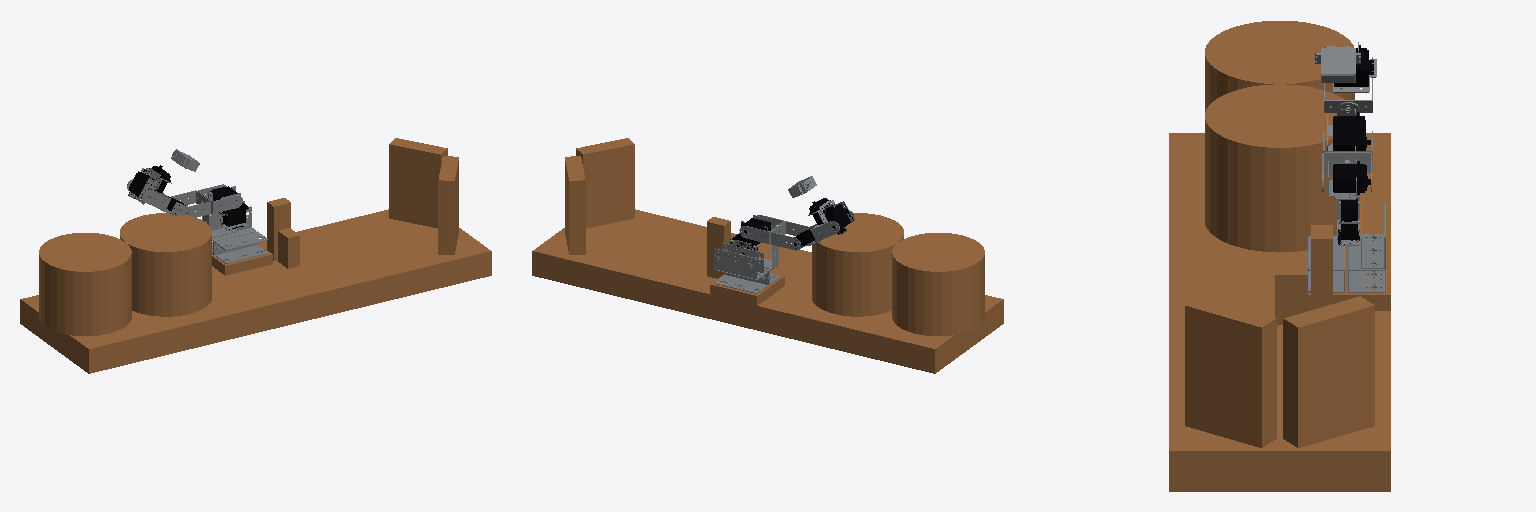
--- What the picture shows (computed from the rendered views, not written in the file) ---
3 views of the same robot in one strip: view 1: azimuth 30°, elevation 25°; view 2: azimuth 150°, elevation 25°; view 3: azimuth 270°, elevation 25° (orthographic).
Robot: strawberry_picking_rpi — 38 links, 37 joints (13 revolute, 24 fixed); root link base_link; default pose: every joint at zero.
Visible links, largest first — view 1: kabaong, basket_diseased, basket_healthy, mirror_right, mirror_left, 2_u_type_robot_waist_bracket, depth_camera_mount, mirror_camera_mount, base_link, 3_long_u_type_servo_bracket; view 2: kabaong, basket_diseased, basket_healthy, mirror_left, mirror_right, 3_u_type_robot_waist_bracket, depth_camera_mount, base_link, 1_u_type_robot_waist_bracket, 3_long_u_type_servo_bracket; view 3: kabaong, basket_healthy, mirror_left, mirror_right, basket_diseased, depth_camera_mount, mirror_camera_mount, gripper_servo, 1_u_type_robot_waist_bracket, 3_servo, base_link, 2_servo (+4 smaller).
Link boxes in pixels (x1,y1,x2,y2): kabaong: [20, 209, 491, 373]; basket_diseased: [39, 233, 131, 335]; basket_healthy: [120, 213, 211, 316]; mirror_right: [389, 138, 447, 227]; mirror_left: [438, 156, 458, 254]; 2_u_type_robot_waist_bracket: [215, 231, 267, 263]; depth_camera_mount: [267, 198, 290, 260]; mirror_camera_mount: [278, 228, 299, 268]; base_link: [212, 242, 272, 275]; 3_long_u_type_servo_bracket: [171, 190, 210, 217]; kabaong: [532, 209, 1003, 373]; basket_diseased: [892, 233, 984, 335]; basket_healthy: [812, 213, 903, 316]; mirror_left: [576, 138, 634, 227]; mirror_right: [565, 156, 585, 254]; 3_u_type_robot_waist_bracket: [714, 243, 763, 278]; depth_camera_mount: [707, 217, 730, 278]; base_link: [710, 272, 784, 305]; 1_u_type_robot_waist_bracket: [715, 269, 767, 293]; 3_long_u_type_servo_bracket: [771, 221, 807, 250]; kabaong: [1169, 133, 1390, 491]; basket_healthy: [1205, 84, 1349, 252]; mirror_left: [1185, 296, 1276, 447]; mirror_right: [1283, 296, 1374, 447]; basket_diseased: [1205, 21, 1354, 111]; depth_camera_mount: [1311, 225, 1332, 309]; mirror_camera_mount: [1275, 266, 1307, 324]; gripper_servo: [1315, 46, 1360, 82]; 1_u_type_robot_waist_bracket: [1348, 236, 1384, 292]; 3_servo: [1333, 112, 1370, 150]; base_link: [1302, 257, 1390, 310]; 2_servo: [1333, 161, 1370, 194].
Bounding box of the posed robot: 0.87 × 0.25 × 0.2986 m (x, y, z).
Meshes: 12 distinct files referenced, 19 mesh visuals loaded (6 binary STL); not drawn: 11 (reference not matched to a file when rendering).

robot.urdf — strawberry_picking_rpi:
<?xml version="1.0" ?>
<!-- =================================================================================== -->
<!-- |    This document was autogenerated by xacro from strawberry_picking_rpi.urdf.xacro | -->
<!-- |    EDITING THIS FILE BY HAND IS NOT RECOMMENDED                                 | -->
<!-- =================================================================================== -->
<robot name="strawberry_picking_rpi">
  <material name="wood">
    <color rgba="0.6431372549019608 0.4549019607843137 0.28627450980392155 1.0"/>
    <texture filename=""/>
  </material>
  <material name="aluminum">
    <color rgba="0.5333333333333333 0.5450980392156862 0.5529411764705883 1.0"/>
  </material>
  <material name="black_plastic">
    <color rgba="0.058823529411764705 0.058823529411764705 0.07450980392156863 1.0"/>
  </material>
  <!-- the base link is the plank where the robot sits on -->
  <link name="base_link">
    <visual name="base_link">
      <origin rpy="0.0 0.0 0.0" xyz="0.0 0.0 0.0"/>
      <geometry>
        <box size="0.1                             0.1                             0.02"/>
      </geometry>
      <material name="wood"/>
    </visual>
    <collision>
      <origin rpy="0.0 0.0 0.0" xyz="0.0 0.0 0.0"/>
      <geometry>
        <box size="0.1                             0.1                             0.02"/>
      </geometry>
    </collision>
  </link>
  <link name="1_u_type_robot_waist_bracket">
    <inertial>
      <origin rpy="         0.0          0.0         0.0" xyz="         0.0         0.0225         0.014"/>
      <mass value="0.0"/>
      <inertia ixx="0.0" ixy="0.0" ixz="0.0" iyy="0.0" iyz="0.0" izz="0.0"/>
    </inertial>
    <visual>
      <origin rpy="         0.0          0.0         0.0" xyz="         0.0         0.0225         0.014"/>
      <geometry>
        <mesh filename="package://strawberry_picking_rpi_description/meshes/u_type_robot_waist_bracket.stl" scale="0.001 0.001 0.001"/>
      </geometry>
      <material name="aluminum"/>
    </visual>
    <collision>
      <origin rpy="         0.0          0.0         0.0" xyz="         0.0         0.0225         0.014"/>
      <geometry>
        <box size="0.09                                 0.045                                 0.028"/>
      </geometry>
    </collision>
  </link>
  <joint name="1_u_type_robot_waist_bracket_link_to_base_link" type="fixed">
    <origin rpy="         0.0          0.0         0.0" xyz="         0.0         0.0         0.01"/>
    <parent link="base_link"/>
    <child link="1_u_type_robot_waist_bracket"/>
  </joint>
  <link name="2_u_type_robot_waist_bracket">
    <inertial>
      <origin rpy="         0.0          0.0         0.0" xyz="         0.0         0.0225         0.014"/>
      <mass value="0.0"/>
      <inertia ixx="0.0" ixy="0.0" ixz="0.0" iyy="0.0" iyz="0.0" izz="0.0"/>
    </inertial>
    <visual>
      <origin rpy="         0.0          0.0         0.0" xyz="         0.0         0.0225         0.014"/>
      <geometry>
        <mesh filename="package://strawberry_picking_rpi_description/meshes/u_type_robot_waist_bracket.stl" scale="0.001 0.001 0.001"/>
      </geometry>
      <material name="aluminum"/>
    </visual>
    <collision>
      <origin rpy="         0.0          0.0         0.0" xyz="         0.0         0.0225         0.014"/>
      <geometry>
        <box size="0.09                                 0.045                                 0.028"/>
      </geometry>
    </collision>
  </link>
  <joint name="2_u_type_robot_waist_bracket_link_to_1_u_type_robot_waist_bracket" type="fixed">
    <origin rpy="         0.0          0.0         3.141592653589793" xyz="         0.0         0.0         0.0"/>
    <parent link="1_u_type_robot_waist_bracket"/>
    <child link="2_u_type_robot_waist_bracket"/>
  </joint>
  <link name="3_u_type_robot_waist_bracket">
    <inertial>
      <origin rpy="         1.5707963267948966         0.0         0.0" xyz="         0.0         0.0         0.0225"/>
      <mass value="0.0"/>
      <inertia ixx="0.0" ixy="0.0" ixz="0.0" iyy="0.0" iyz="0.0" izz="0.0"/>
    </inertial>
    <visual>
      <origin rpy="         1.5707963267948966         0.0         0.0" xyz="         0.0         0.0         0.0225"/>
      <geometry>
        <mesh filename="package://strawberry_picking_rpi_description/meshes/u_type_robot_waist_bracket.stl" scale="0.001 0.001 0.001"/>
      </geometry>
      <material name="aluminum"/>
    </visual>
    <collision>
      <origin rpy="         1.5707963267948966         0.0         0.0" xyz="         0.0         0.0         0.0225"/>
      <geometry>
        <box size="0.09                                 0.045                                 0.028"/>
      </geometry>
    </collision>
  </link>
  <joint name="3_u_type_robot_waist_bracket_link_to_1_u_type_robot_waist_bracket" type="fixed">
    <origin rpy="         0.0          0.0         0.0" xyz="         0.0         0.03025         0.028"/>
    <parent link="1_u_type_robot_waist_bracket"/>
    <child link="3_u_type_robot_waist_bracket"/>
  </joint>
  <link name="1_multi_functional_servo_bracket_with_servo">
    <inertial>
      <origin rpy="         0.0         0.0         3.141592653589793" xyz="         0.0          0.013300000000000001          0.01"/>
      <mass value="0.0"/>
      <inertia ixx="0.0" ixy="0.0" ixz="0.0" iyy="0.0" iyz="0.0" izz="0.0"/>
    </inertial>
    <visual name="">
      <origin rpy="         0.0         0.0         3.141592653589793" xyz="         0.0          0.013300000000000001          0.01"/>
      <geometry>
        <mesh filename="package://strawberry_picking_rpi_description/meshes/multi_functional_servo_bracket.stl" scale="0.001 0.001 0.001"/>
      </geometry>
      <material name="aluminum"/>
    </visual>
    <collision>
      <origin rpy="         0.0         0.0         3.141592653589793" xyz="         0.0          0.013300000000000001          0.01"/>
      <geometry>
        <box size="0.057                                 0.025                                 0.05"/>
      </geometry>
    </collision>
  </link>
  <link name="1_servo">
    <visual>
      <origin rpy="         0.0         0.0         3.141592653589793" xyz="         0.0          0.013300000000000001          0.01"/>
      <geometry>
        <mesh filename="package://strawberry_picking_rpi_description/meshes/mg996r_servo.stl" scale="0.001 0.001 0.001"/>
      </geometry>
      <material name="black_plastic"/>
    </visual>
  </link>
  <joint name="1_servo_to_1_multi_functional_servo_bracket_with_servo" type="fixed">
    <parent link="1_multi_functional_servo_bracket_with_servo"/>
    <child link="1_servo"/>
  </joint>
  <joint name="1_multi_functional_servo_bracket_with_servo_to_3_u_type_robot_waist_bracket" type="fixed">
    <origin rpy="             0.0              0.0             3.141592653589793" xyz="             0.0             -0.014             0.03025"/>
    <parent link="3_u_type_robot_waist_bracket"/>
    <child link="1_multi_functional_servo_bracket_with_servo"/>
  </joint>
  <link name="1_long_u_type_servo_bracket">
    <inertial>
      <origin rpy="         0.0         1.5707963267948966         0.0" xyz="         -0.052500000000000005         -0.01         -0.025500000000000002"/>
      <mass value="0.0"/>
      <inertia ixx="0.0" ixy="0.0" ixz="0.0" iyy="0.0" iyz="0.0" izz="0.0"/>
    </inertial>
    <visual name="">
      <origin rpy="         0.0         1.5707963267948966         0.0" xyz="         -0.052500000000000005         -0.01         -0.025500000000000002"/>
      <geometry>
        <mesh filename="package://strawberry_picking_rpi_description/meshes/long_u_type_servo_bracket.stl" scale="0.001 0.001 0.001"/>
      </geometry>
      <material name="aluminum"/>
    </visual>
    <collision>
      <origin rpy="         0.0         1.5707963267948966         0.0" xyz="         -0.052500000000000005         -0.01         -0.025500000000000002"/>
      <geometry>
        <mesh filename="package://strawberry_picking_rpi_description/meshes/long_u_type_servo_bracket.stl" scale="0.001 0.001 0.001"/>
      </geometry>
    </collision>
  </link>
  <joint name="DOF_1" type="revolute">
    <origin rpy="             0.0              0.0             -3.141592653589793" xyz="             0.0095             0.014             0.036000000000000004"/>
    <limit effort="1000" lower="0" upper="3.141592653589793" velocity="6.98133333333"/>
    <axis xyz="0.0 0.0 1"/>
    <parent link="1_multi_functional_servo_bracket_with_servo"/>
    <child link="1_long_u_type_servo_bracket"/>
  </joint>
  <link name="2_multi_functional_servo_bracket_with_servo">
    <inertial>
      <origin rpy="         0.0         0.0         0.0" xyz="         0.0         -0.014          0.009"/>
      <mass value="0.0"/>
      <inertia ixx="0.0" ixy="0.0" ixz="0.0" iyy="0.0" iyz="0.0" izz="0.0"/>
    </inertial>
    <visual name="">
      <origin rpy="         0.0         0.0         0.0" xyz="         0.0         -0.014          0.009"/>
      <geometry>
        <mesh filename="package://strawberry_picking_rpi_description/meshes/multi_functional_servo_bracket.stl" scale="0.001 0.001 0.001"/>
      </geometry>
      <material name="aluminum"/>
    </visual>
    <collision>
      <origin rpy="         0.0         0.0         0.0" xyz="         0.0         -0.014          0.009"/>
      <geometry>
        <box size="0.057                                 0.025                                 0.05"/>
      </geometry>
    </collision>
  </link>
  <link name="2_servo">
    <visual>
      <origin rpy="         0.0         0.0         0.0" xyz="         0.0         -0.014          0.009"/>
      <geometry>
        <mesh filename="package://strawberry_picking_rpi_description/meshes/mg996r_servo_reversed.stl" scale="0.001 0.001 0.001"/>
      </geometry>
      <material name="black_plastic"/>
    </visual>
  </link>
  <joint name="2_servo_to_2_multi_functional_servo_bracket_with_servo" type="fixed">
    <parent link="2_multi_functional_servo_bracket_with_servo"/>
    <child link="2_servo"/>
  </joint>
  <joint name="2_multi_functional_servo_bracket_with_servo_to_1_long_u_type_servo_bracket" type="fixed">
    <origin rpy="             1.5707963267948966             3.141592653589793             3.141592653589793" xyz="             -0.012             -0.011             0.003"/>
    <parent link="1_long_u_type_servo_bracket"/>
    <child link="2_multi_functional_servo_bracket_with_servo"/>
  </joint>
  <link name="2_long_u_type_servo_bracket">
    <inertial>
      <origin rpy="         0.0         1.5707963267948966         0.0" xyz="         -0.052500000000000005         -0.01         -0.0265"/>
      <mass value="0.0"/>
      <inertia ixx="0.0" ixy="0.0" ixz="0.0" iyy="0.0" iyz="0.0" izz="0.0"/>
    </inertial>
    <visual name="">
      <origin rpy="         0.0         1.5707963267948966         0.0" xyz="         -0.052500000000000005         -0.01         -0.0265"/>
      <geometry>
        <mesh filename="package://strawberry_picking_rpi_description/meshes/long_u_type_servo_bracket.stl" scale="0.001 0.001 0.001"/>
      </geometry>
      <material name="aluminum"/>
    </visual>
    <collision>
      <origin rpy="         0.0         1.5707963267948966         0.0" xyz="         -0.052500000000000005         -0.01         -0.0265"/>
      <geometry>
        <mesh filename="package://strawberry_picking_rpi_description/meshes/long_u_type_servo_bracket.stl" scale="0.001 0.001 0.001"/>
      </geometry>
    </collision>
  </link>
  <joint name="DOF_2" type="revolute">
    <origin rpy="             0.0              0.0             0.0" xyz="             0.0095             -0.014             0.036000000000000004"/>
    <limit effort="1000" lower="0" upper="3.141592653589793" velocity="6.98133333333"/>
    <axis xyz="0.0 0.0 1"/>
    <parent link="2_multi_functional_servo_bracket_with_servo"/>
    <child link="2_long_u_type_servo_bracket"/>
  </joint>
  <link name="3_long_u_type_servo_bracket">
    <inertial>
      <origin rpy="         0.0         -1.5707963267948966         0.0" xyz="         -0.053000000000000005         -0.0105         -0.025500000000000002"/>
      <mass value="0.0"/>
      <inertia ixx="0.0" ixy="0.0" ixz="0.0" iyy="0.0" iyz="0.0" izz="0.0"/>
    </inertial>
    <visual name="">
      <origin rpy="         0.0         -1.5707963267948966         0.0" xyz="         -0.053000000000000005         -0.0105         -0.025500000000000002"/>
      <geometry>
        <mesh filename="package://strawberry_picking_rpi_description/meshes/long_u_type_servo_bracket.stl" scale="0.001 0.001 0.001"/>
      </geometry>
      <material name="aluminum"/>
    </visual>
    <collision>
      <origin rpy="         0.0         -1.5707963267948966         0.0" xyz="         -0.053000000000000005         -0.0105         -0.025500000000000002"/>
      <geometry>
        <mesh filename="package://strawberry_picking_rpi_description/meshes/long_u_type_servo_bracket.stl" scale="0.001 0.001 0.001"/>
      </geometry>
    </collision>
  </link>
  <joint name="3_long_u_type_servo_bracket_to_2_long_u_type_servo_bracket" type="fixed">
    <origin rpy="             0.0              0.0             0.0" xyz="             0.0             0.0             0.0"/>
    <parent link="2_long_u_type_servo_bracket"/>
    <child link="3_long_u_type_servo_bracket"/>
  </joint>
  <link name="3_multi_functional_servo_bracket_with_servo">
    <inertial>
      <origin rpy="         0.0         0.0         3.141592653589793" xyz="         0.0095         0.0         -0.028"/>
      <mass value="0.0"/>
      <inertia ixx="0.0" ixy="0.0" ixz="0.0" iyy="0.0" iyz="0.0" izz="0.0"/>
    </inertial>
    <visual name="">
      <origin rpy="         0.0         0.0         3.141592653589793" xyz="         0.0095         0.0         -0.028"/>
      <geometry>
        <mesh filename="package://strawberry_picking_rpi_description/meshes/multi_functional_servo_bracket.stl" scale="0.001 0.001 0.001"/>
      </geometry>
      <material name="aluminum"/>
    </visual>
    <collision>
      <origin rpy="         0.0         0.0         3.141592653589793" xyz="         0.0095         0.0         -0.028"/>
      <geometry>
        <box size="0.057                                 0.025                                 0.05"/>
      </geometry>
    </collision>
  </link>
  <link name="3_servo">
    <visual>
      <origin rpy="         0.0         0.0         3.141592653589793" xyz="         0.0095         0.0         -0.028"/>
      <geometry>
        <mesh filename="package://strawberry_picking_rpi_description/meshes/mg996r_servo_reversed.stl" scale="0.001 0.001 0.001"/>
      </geometry>
      <material name="black_plastic"/>
    </visual>
  </link>
  <joint name="3_servo_to_3_multi_functional_servo_bracket_with_servo" type="fixed">
    <parent link="3_multi_functional_servo_bracket_with_servo"/>
    <child link="3_servo"/>
  </joint>
  <joint name="DOF_3" type="revolute">
    <origin rpy="             0.0             0.0             -2.5707963267948966" xyz="             -0.1055             0.0             0.0"/>
    <limit effort="1000" lower="0" upper="3.141592653589793" velocity="6.98133333333"/>
    <axis xyz="0.0 0.0 -1"/>
    <parent link="3_long_u_type_servo_bracket"/>
    <child link="3_multi_functional_servo_bracket_with_servo"/>
  </joint>
  <link name="1_l_type_servo_bracket">
    <inertial>
      <origin rpy="         0.0         0.0         0.0" xyz="         0.0         -0.0062         0.0105"/>
      <mass value="0.0"/>
      <inertia ixx="0.0" ixy="0.0" ixz="0.0" iyy="0.0" iyz="0.0" izz="0.0"/>
    </inertial>
    <visual name="">
      <origin rpy="         0.0         0.0         0.0" xyz="         0.0         -0.0062         0.0105"/>
      <geometry>
        <mesh filename="package://strawberry_picking_rpi_description/meshes/l_type_servo_bracket.stl" scale="0.001 0.001 0.001"/>
      </geometry>
      <material name="aluminum"/>
    </visual>
  </link>
  <joint name="1_l_type_servo_bracket_link_to_3_multi_functional_servo_bracket_with_servo" type="fixed">
    <origin rpy="         4.71238898038469          1.5707963267948966         0.0" xyz="         0.0205         -0.013500000000000002         -0.025"/>
    <parent link="3_multi_functional_servo_bracket_with_servo"/>
    <child link="1_l_type_servo_bracket"/>
  </joint>
  <link name="4_long_u_type_servo_bracket">
    <inertial>
      <origin rpy="         1.5707963267948966         0.0         0.0" xyz="         0.0         0.0         -0.008"/>
      <mass value="0.0"/>
      <inertia ixx="0.0" ixy="0.0" ixz="0.0" iyy="0.0" iyz="0.0" izz="0.0"/>
    </inertial>
    <visual name="">
      <origin rpy="         1.5707963267948966         0.0         0.0" xyz="         0.0         0.0         -0.008"/>
      <geometry>
        <mesh filename="package://strawberry_picking_rpi_description/meshes/long_u_type_servo_bracket.stl" scale="0.001 0.001 0.001"/>
      </geometry>
      <material name="aluminum"/>
    </visual>
    <collision>
      <origin rpy="         1.5707963267948966         0.0         0.0" xyz="         0.0         0.0         -0.008"/>
      <geometry>
        <mesh filename="package://strawberry_picking_rpi_description/meshes/long_u_type_servo_bracket.stl" scale="0.001 0.001 0.001"/>
      </geometry>
    </collision>
  </link>
  <joint name="4_long_u_type_servo_bracket_to_1_l_type_servo_bracket" type="fixed">
    <origin rpy="             0.0              0.0             0.0" xyz="             0.0             -0.025             0.0125"/>
    <parent link="1_l_type_servo_bracket"/>
    <child link="4_long_u_type_servo_bracket"/>
  </joint>
  <link name="4_multi_functional_servo_bracket_with_servo">
    <inertial>
      <origin rpy="         0.0         0.0         0.0" xyz="         0.0095         0.0         -0.025"/>
      <mass value="0.0"/>
      <inertia ixx="0.0" ixy="0.0" ixz="0.0" iyy="0.0" iyz="0.0" izz="0.0"/>
    </inertial>
    <visual name="">
      <origin rpy="         0.0         0.0         0.0" xyz="         0.0095         0.0         -0.025"/>
      <geometry>
        <mesh filename="package://strawberry_picking_rpi_description/meshes/multi_functional_servo_bracket.stl" scale="0.001 0.001 0.001"/>
      </geometry>
      <material name="aluminum"/>
    </visual>
    <collision>
      <origin rpy="         0.0         0.0         0.0" xyz="         0.0095         0.0         -0.025"/>
      <geometry>
        <box size="0.057                                 0.025                                 0.05"/>
      </geometry>
    </collision>
  </link>
  <link name="4_servo">
    <visual>
      <origin rpy="         0.0         0.0         0.0" xyz="         0.0095         0.0         -0.025"/>
      <geometry>
        <mesh filename="package://strawberry_picking_rpi_description/meshes/mg996r_servo.stl" scale="0.001 0.001 0.001"/>
      </geometry>
      <material name="black_plastic"/>
    </visual>
  </link>
  <joint name="4_servo_to_4_multi_functional_servo_bracket_with_servo" type="fixed">
    <parent link="4_multi_functional_servo_bracket_with_servo"/>
    <child link="4_servo"/>
  </joint>
  <joint name="DOF_4" type="revolute">
    <origin rpy="             0.0             -1.5707963267948966             0.0" xyz="             -0.025             -0.0525             0.002"/>
    <limit effort="1000" lower="0" upper="3.141592653589793" velocity="6.98133333333"/>
    <axis xyz="0.0 0.0 -1"/>
    <parent link="4_long_u_type_servo_bracket"/>
    <child link="4_multi_functional_servo_bracket_with_servo"/>
  </joint>
  <link name="5_multi_functional_servo_bracket_with_servo">
    <inertial>
      <origin rpy="         3.141592653589793         -1.5707963267948966         0.0" xyz="         0.007         0.0125         0.0"/>
      <mass value="0.0"/>
      <inertia ixx="0.0" ixy="0.0" ixz="0.0" iyy="0.0" iyz="0.0" izz="0.0"/>
    </inertial>
    <visual name="">
      <origin rpy="         3.141592653589793         -1.5707963267948966         0.0" xyz="         0.007         0.0125         0.0"/>
      <geometry>
        <mesh filename="package://strawberry_picking_rpi_description/meshes/multi_functional_servo_bracket.stl" scale="0.001 0.001 0.001"/>
      </geometry>
      <material name="aluminum"/>
    </visual>
    <collision>
      <origin rpy="         3.141592653589793         -1.5707963267948966         0.0" xyz="         0.007         0.0125         0.0"/>
      <geometry>
        <box size="0.057                                 0.025                                 0.05"/>
      </geometry>
    </collision>
  </link>
  <link name="5_servo">
    <visual>
      <origin rpy="         3.141592653589793         -1.5707963267948966         0.0" xyz="         0.007         0.0125         0.0"/>
      <geometry>
        <mesh filename="package://strawberry_picking_rpi_description/meshes/mg996r_servo_reversed.stl" scale="0.001 0.001 0.001"/>
      </geometry>
      <material name="black_plastic"/>
    </visual>
  </link>
  <joint name="5_servo_to_5_multi_functional_servo_bracket_with_servo" type="fixed">
    <parent link="5_multi_functional_servo_bracket_with_servo"/>
    <child link="5_servo"/>
  </joint>
  <joint name="5_multi_functional_servo_bracket_with_servo_to_4_multi_functional_servo_bracket_with_servo" type="fixed">
    <origin rpy="             0.0             0.0             0.0" xyz="             0.021             0.0125             -0.022000000000000002"/>
    <parent link="4_multi_functional_servo_bracket_with_servo"/>
    <child link="5_multi_functional_servo_bracket_with_servo"/>
  </joint>
  <link name="gripper_base">
    <inertial>
      <origin rpy="0.0 1.5707963267948966 0.0" xyz="-0.00075 -0.037 0.03"/>
      <mass value="0.0"/>
      <inertia ixx="0.0" ixy="0.0" ixz="0.0" iyy="0.0" iyz="0.0" izz="0.0"/>
    </inertial>
    <visual>
      <origin rpy="0.0 1.5707963267948966 0.0" xyz="-0.00075 -0.037 0.03"/>
      <geometry>
        <mesh filename="package://strawberry_picking_rpi_description/meshes/gripper_palm.stl" scale="0.001 0.001 0.001"/>
      </geometry>
      <material name="aluminum"/>
    </visual>
    <collision>
      <origin rpy="0.0 1.5707963267948966 0.0" xyz="-0.00075 -0.037 0.03"/>
      <geometry>
        <mesh filename="package://strawberry_picking_rpi_description/meshes/gripper_palm.stl" scale="0.001 0.001 0.001"/>
      </geometry>
    </collision>
  </link>
  <link name="gripper_palm_to_finger_large_lo">
    <inertial>
      <origin rpy="1.5707963267948966 2.041592653589793 1.5707963267948966" xyz="0.0 0.0 0.0"/>
      <mass value="0.0"/>
      <inertia ixx="0.0" ixy="0.0" ixz="0.0" iyy="0.0" iyz="0.0" izz="0.0"/>
    </inertial>
    <visual>
      <origin rpy="1.5707963267948966 2.041592653589793 1.5707963267948966" xyz="-0.00075 0.0 0.0"/>
      <geometry>
        <mesh filename="package://strawberry_picking_rpi_description/meshes/gripper_palm_to_finger_large_lo.stl" scale="0.001 0.001 0.001"/>
      </geometry>
      <material name="aluminum"/>
    </visual>
  </link>
  <joint name="GRIPPER" type="revolute">
    <parent link="gripper_base"/>
    <child link="gripper_palm_to_finger_large_lo"/>
    <axis xyz="-1 0 0"/>
    <limit effort="1000.0" lower="0.0" upper="1.1" velocity="50.0"/>
    <origin rpy="0 0 0" xyz="-0.002 -0.015 0.03"/>
  </joint>
  <link name="gripper_palm_to_finger_large">
    <inertial>
      <origin rpy="1.5707963267948966 2.041592653589793 1.5707963267948966" xyz="0.0 0.0 0.0"/>
      <mass value="0.0"/>
      <inertia ixx="0.0" ixy="0.0" ixz="0.0" iyy="0.0" iyz="0.0" izz="0.0"/>
    </inertial>
    <visual>
      <origin rpy="1.5707963267948966 2.041592653589793 -1.5707963267948966" xyz="-0.00075 0.0 0.0"/>
      <geometry>
        <mesh filename="package://strawberry_picking_rpi_description/meshes/gripper_palm_to_finger_large.stl" scale="0.001 0.001 0.001"/>
      </geometry>
      <material name="aluminum"/>
    </visual>
  </link>
  <joint name="gripper_palm_to_finger_large_to_gripper_base" type="revolute">
    <parent link="gripper_base"/>
    <child link="gripper_palm_to_finger_large"/>
    <mimic joint="GRIPPER"/>
    <axis xyz="1 0 0"/>
    <limit effort="1000.0" lower="-3.14159" upper="3.14159" velocity="50.0"/>
    <origin rpy="0 0 0" xyz="0.0 0.012 0.03"/>
  </joint>
  <link name="gripper_palm_to_finger_small_left_over">
    <inertial>
      <origin rpy="1.5707963267948966 2.041592653589793 1.5707963267948966" xyz="0.0 0.0 0.0"/>
      <mass value="0.0"/>
      <inertia ixx="0.0" ixy="0.0" ixz="0.0" iyy="0.0" iyz="0.0" izz="0.0"/>
    </inertial>
    <visual>
      <origin rpy="1.5707963267948966 2.041592653589793 -1.5707963267948966" xyz="-0.00075 0.0 0.0"/>
      <geometry>
        <mesh filename="package://strawberry_picking_rpi_description/meshes/gripper_palm_to_finger_small.stl" scale="0.001 0.001 0.001"/>
      </geometry>
      <material name="aluminum"/>
    </visual>
  </link>
  <joint name="gripper_palm_to_finger_small_left_over_to_gripper_base" type="revolute">
    <parent link="gripper_base"/>
    <child link="gripper_palm_to_finger_small_left_over"/>
    <axis xyz="1 0 0"/>
    <mimic joint="GRIPPER"/>
    <limit effort="1000.0" lower="-3.14159" upper="3.14159" velocity="50.0"/>
    <origin rpy="0 0 0" xyz="0.0 0.0068 0.052"/>
  </joint>
  <link name="gripper_palm_to_finger_small_left_under">
    <inertial>
      <origin rpy="1.5707963267948966 2.041592653589793 1.5707963267948966" xyz="0.0 0.0 0.0"/>
      <mass value="0.0"/>
      <inertia ixx="0.0" ixy="0.0" ixz="0.0" iyy="0.0" iyz="0.0" izz="0.0"/>
    </inertial>
    <visual>
      <origin rpy="1.5707963267948966 2.041592653589793 -1.5707963267948966" xyz="-0.00075 0.0 0.0"/>
      <geometry>
        <mesh filename="package://strawberry_picking_rpi_description/meshes/gripper_palm_to_finger_small.stl" scale="0.001 0.001 0.001"/>
      </geometry>
      <material name="aluminum"/>
    </visual>
  </link>
  <joint name="gripper_palm_to_finger_small_left_under_to_gripper_base" type="revolute">
    <parent link="gripper_base"/>
    <child link="gripper_palm_to_finger_small_left_under"/>
    <axis xyz="1 0 0"/>
    <mimic joint="GRIPPER"/>
    <limit effort="1000.0" lower="-3.14159" upper="3.14159" velocity="50.0"/>
    <origin rpy="0 0 0" xyz="0.004 0.0068 0.052"/>
  </joint>
  <link name="gripper_palm_to_finger_small_right_over">
    <inertial>
      <origin rpy="1.5707963267948966 4.241592653589793 1.5707963267948966" xyz="0.0 0.0 0.0"/>
      <mass value="0.0"/>
      <inertia ixx="0.0" ixy="0.0" ixz="0.0" iyy="0.0" iyz="0.0" izz="0.0"/>
    </inertial>
    <visual>
      <origin rpy="1.5707963267948966 4.241592653589793 -1.5707963267948966" xyz="-0.00075 0.0 0.0"/>
      <geometry>
        <mesh filename="package://strawberry_picking_rpi_description/meshes/gripper_palm_to_finger_small.stl" scale="0.001 0.001 0.001"/>
      </geometry>
      <material name="aluminum"/>
    </visual>
  </link>
  <joint name="gripper_palm_to_finger_small_right_over_to_gripper_base" type="revolute">
    <parent link="gripper_base"/>
    <child link="gripper_palm_to_finger_small_right_over"/>
    <axis xyz="1 0 0"/>
    <mimic joint="GRIPPER" multiplier="-1"/>
    <limit effort="1000.0" lower="-3.14159" upper="3.14159" velocity="50.0"/>
    <origin rpy="0 0 0" xyz="0.0 -0.0068 0.052"/>
  </joint>
  <link name="gripper_palm_to_finger_small_right_under">
    <inertial>
      <origin rpy="1.5707963267948966 4.241592653589793 1.5707963267948966" xyz="0.0 0.0 0.0"/>
      <mass value="0.0"/>
      <inertia ixx="0.0" ixy="0.0" ixz="0.0" iyy="0.0" iyz="0.0" izz="0.0"/>
    </inertial>
    <visual>
      <origin rpy="1.5707963267948966 4.241592653589793 -1.5707963267948966" xyz="-0.00075 0.0 0.0"/>
      <geometry>
        <mesh filename="package://strawberry_picking_rpi_description/meshes/gripper_palm_to_finger_small.stl" scale="0.001 0.001 0.001"/>
      </geometry>
      <material name="aluminum"/>
    </visual>
  </link>
  <joint name="gripper_palm_to_finger_small_right_under_to_gripper_base" type="revolute">
    <parent link="gripper_base"/>
    <child link="gripper_palm_to_finger_small_right_under"/>
    <axis xyz="1 0 0"/>
    <mimic joint="GRIPPER" multiplier="-1"/>
    <limit effort="1000.0" lower="-3.14159" upper="3.14159" velocity="50.0"/>
    <origin rpy="0 0 0" xyz="0.004 -0.0068 0.052"/>
  </joint>
  <link name="finger_left">
    <inertial>
      <origin rpy="1.5707963267948966 3.141592653589793 1.5707963267948966" xyz="0.0 0.0 0.0"/>
      <mass value="0.0"/>
      <inertia ixx="0.0" ixy="0.0" ixz="0.0" iyy="0.0" iyz="0.0" izz="0.0"/>
    </inertial>
    <visual>
      <origin rpy="1.5707963267948966 -1.5707963267948966 -1.5707963267948966" xyz="-0.00075 -0.005 -0.005"/>
      <geometry>
        <mesh filename="package://strawberry_picking_rpi_description/meshes/finger.stl" scale="0.001 0.001 0.001"/>
      </geometry>
      <material name="aluminum"/>
    </visual>
    <collision>
      <origin rpy="1.5707963267948966 -1.5707963267948966 -1.5707963267948966" xyz="-0.00075 -0.005 -0.005"/>
      <geometry>
        <mesh filename="package://strawberry_picking_rpi_description/meshes/finger.stl" scale="0.001 0.001 0.001"/>
      </geometry>
    </collision>
  </link>
  <joint name="finger_left_to_gripper_palm_to_finger_large" type="revolute">
    <parent link="gripper_palm_to_finger_large"/>
    <child link="finger_left"/>
    <axis xyz="1 0 0"/>
    <mimic joint="gripper_palm_to_finger_large_to_gripper_base" multiplier="-1"/>
    <limit effort="1000.0" lower="-3.14159" upper="3.14159" velocity="50.0"/>
    <origin rpy="0.34 0 0" xyz="0.002 0.0275 0.01425"/>
  </joint>
  <link name="finger_right">
    <inertial>
      <origin rpy="1.5707963267948966 3.141592653589793 1.5707963267948966" xyz="0.0 0.0 0.0"/>
      <mass value="0.0"/>
      <inertia ixx="0.0" ixy="0.0" ixz="0.0" iyy="0.0" iyz="0.0" izz="0.0"/>
    </inertial>
    <visual>
      <origin rpy="-1.5707963267948966 -1.5707963267948966 -1.5707963267948966" xyz="0.000 0.005 -0.005"/>
      <geometry>
        <mesh filename="package://strawberry_picking_rpi_description/meshes/finger.stl" scale="0.001 0.001 0.001"/>
      </geometry>
      <material name="aluminum"/>
    </visual>
    <collision>
      <origin rpy="-1.5707963267948966 -1.5707963267948966 -1.5707963267948966" xyz="0.000 0.005 -0.005"/>
      <geometry>
        <mesh filename="package://strawberry_picking_rpi_description/meshes/finger.stl" scale="0.001 0.001 0.001"/>
      </geometry>
    </collision>
  </link>
  <joint name="finger_right_to_gripper_palm_to_finger_large" type="revolute">
    <parent link="gripper_palm_to_finger_large_lo"/>
    <child link="finger_right"/>
    <axis xyz="1 0 0"/>
    <mimic joint="gripper_palm_to_finger_large_to_gripper_base"/>
    <limit effort="1000.0" lower="-3.14159" upper="3.14159" velocity="50.0"/>
    <origin rpy="-0.38 0 0" xyz="0.002 -0.0275 0.01425"/>
  </joint>
  <link name="gripper_servo">
    <inertial>
      <origin rpy="1.5707963267948966 3.141592653589793 -1.5707963267948966" xyz="0.0 0.0 0.0"/>
      <mass value="0.0"/>
      <inertia ixx="0.0" ixy="0.0" ixz="0.0" iyy="0.0" iyz="0.0" izz="0.0"/>
    </inertial>
    <visual>
      <origin rpy="1.5707963267948966 3.141592653589793 -1.5707963267948966" xyz="0.0275 -0.0095 0.0"/>
      <geometry>
        <mesh filename="package://strawberry_picking_rpi_description/meshes/mg996r_servo_reversed.stl" scale="0.001 0.001 0.001"/>
      </geometry>
      <material name="aluminum"/>
    </visual>
    <collision>
      <origin rpy="1.5707963267948966 3.141592653589793 -1.5707963267948966" xyz="0.0275 -0.0095 0.0"/>
      <geometry>
        <mesh filename="package://strawberry_picking_rpi_description/meshes/mg996r_servo_reversed.stl" scale="0.001 0.001 0.001"/>
      </geometry>
    </collision>
  </link>
  <joint name="gripper_servo_to_gripper_base" type="fixed">
    <parent link="gripper_base"/>
    <child link="gripper_servo"/>
    <origin rpy="0.0 0 0" xyz="0.002 -0.015 0.0305"/>
  </joint>
  <joint name="DOF_5" type="revolute">
    <parent link="5_multi_functional_servo_bracket_with_servo"/>
    <child link="gripper_base"/>
    <origin rpy="1.5707963267948966 0.0 1.5707963267948966" xyz="0.034 0.012 0.01"/>
    <axis xyz="0.0 0.0 1"/>
    <limit effort="1000" lower="0" upper="3.141592653589793" velocity="6.98133333333"/>
    <axis xyz="0.0 0.0 1"/>
  </joint>
  <!-- ros2_control part, commented out for MoveIt2 -->
  <!--<xacro:include filename="$(find strawberry_picking_rpi_description)/urdf/strawberry_picking_rpi_control.urdf.xacro"/>
    <xacro:controllers/>-->
  <link name="kabaong">
    <inertial>
      <origin rpy="         0.0          0.0         0.0" xyz="         0.0         0.0         0.0"/>
      <mass value="0.0"/>
      <inertia ixx="0.0" ixy="0.0" ixz="0.0" iyy="0.0" iyz="0.0" izz="0.0"/>
    </inertial>
    <visual>
      <origin rpy="         0.0          0.0         0.0" xyz="         0.0         0.0         0.0"/>
      <geometry>
        <box size="0.85                                 0.25                                 0.05"/>
      </geometry>
      <material name="wood"/>
    </visual>
    <collision>
      <origin rpy="         0.0          0.0         0.0" xyz="         0.0         0.0         0.0"/>
      <geometry>
        <box size="0.85                                 0.25                                 0.05"/>
      </geometry>
    </collision>
  </link>
  <joint name="kabaong_to_base_link" type="fixed">
    <origin rpy="         0.0          0.0         0.0" xyz="         0.0         -0.075         -0.035"/>
    <parent link="base_link"/>
    <child link="kabaong"/>
  </joint>
  <link name="basket_diseased">
    <inertial>
      <origin rpy="0.0 0.0 0.0" xyz="0.0 0.0 0.065"/>
      <mass value="0.0"/>
      <inertia ixx="0.0" ixy="0.0" ixz="0.0" iyy="0.0" iyz="0.0" izz="0.0"/>
    </inertial>
    <visual>
      <origin rpy="0.0 0.0 0.0" xyz="0.0 0.0 0.065"/>
      <geometry>
        <cylinder length="0.13" radius="0.085"/>
      </geometry>
      <material name="wood"/>
    </visual>
    <collision>
      <origin rpy="0.0 0.0 0.0" xyz="0.0 0.0 0.065"/>
      <geometry>
        <cylinder length="0.13" radius="0.085"/>
      </geometry>
    </collision>
  </link>
  <joint name="basket_diseased_to_kabaong" type="fixed">
    <origin rpy="             0.0              0.0             0.0" xyz="             -0.36              0.0              0.025"/>
    <parent link="kabaong"/>
    <child link="basket_diseased"/>
  </joint>
  <link name="basket_healthy">
    <inertial>
      <origin rpy="0.0 0.0 0.0" xyz="0.0 0.0 0.065"/>
      <mass value="0.0"/>
      <inertia ixx="0.0" ixy="0.0" ixz="0.0" iyy="0.0" iyz="0.0" izz="0.0"/>
    </inertial>
    <visual>
      <origin rpy="0.0 0.0 0.0" xyz="0.0 0.0 0.065"/>
      <geometry>
        <cylinder length="0.13" radius="0.085"/>
      </geometry>
      <material name="wood"/>
    </visual>
    <collision>
      <origin rpy="0.0 0.0 0.0" xyz="0.0 0.0 0.065"/>
      <geometry>
        <cylinder length="0.13" radius="0.085"/>
      </geometry>
    </collision>
  </link>
  <joint name="basket_healthy_to_kabaong" type="fixed">
    <origin rpy="             0.0              0.0             0.0" xyz="             -0.19              0.0              0.025"/>
    <parent link="kabaong"/>
    <child link="basket_healthy"/>
  </joint>
  <link name="mirror_left">
    <inertial>
      <origin rpy="0.0 0.0 0.0" xyz="0.0 0.0 0.075"/>
      <mass value="0.0"/>
      <inertia ixx="0.0" ixy="0.0" ixz="0.0" iyy="0.0" iyz="0.0" izz="0.0"/>
    </inertial>
    <visual>
      <origin rpy="0.0 0.0 0.0" xyz="0.0 0.0 0.075"/>
      <geometry>
        <box size="0.03                                 0.105                                 0.15"/>
      </geometry>
      <material name="wood"/>
    </visual>
    <collision>
      <origin rpy="0.0 0.0 0.0" xyz="0.0 0.0 0.075"/>
      <geometry>
        <box size="0.03                                 0.105                                 0.15"/>
      </geometry>
    </collision>
  </link>
  <joint name="mirror_left_to_kabaong" type="fixed">
    <origin rpy="             0.0              0.0             -0.602138592" xyz="             0.375              -0.0555             0.025"/>
    <parent link="kabaong"/>
    <child link="mirror_left"/>
  </joint>
  <link name="mirror_right">
    <inertial>
      <origin rpy="0.0 0.0 0.0" xyz="0.0 0.0 0.075"/>
      <mass value="0.0"/>
      <inertia ixx="0.0" ixy="0.0" ixz="0.0" iyy="0.0" iyz="0.0" izz="0.0"/>
    </inertial>
    <visual>
      <origin rpy="0.0 0.0 0.0" xyz="0.0 0.0 0.075"/>
      <geometry>
        <box size="0.03                                 0.105                                 0.15"/>
      </geometry>
      <material name="wood"/>
    </visual>
    <collision>
      <origin rpy="0.0 0.0 0.0" xyz="0.0 0.0 0.075"/>
      <geometry>
        <box size="0.03                                 0.105                                 0.15"/>
      </geometry>
    </collision>
  </link>
  <joint name="mirror_right_to_kabaong" type="fixed">
    <origin rpy="             0.0              0.0             0.602138592" xyz="             0.375              0.0555             0.025"/>
    <parent link="kabaong"/>
    <child link="mirror_right"/>
  </joint>
  <link name="depth_camera_mount">
    <inertial>
      <origin rpy="0.0 0.0 0.0" xyz="0.0 0.0 0.055"/>
      <mass value="0.0"/>
      <inertia ixx="0.0" ixy="0.0" ixz="0.0" iyy="0.0" iyz="0.0" izz="0.0"/>
    </inertial>
    <visual>
      <origin rpy="0.0 0.0 0.0" xyz="0.0 0.0 0.055"/>
      <geometry>
        <box size="0.037                                 0.025                                 0.11"/>
      </geometry>
      <material name="wood"/>
    </visual>
    <collision>
      <origin rpy="0.0 0.0 0.0" xyz="0.0 0.0 0.055"/>
      <geometry>
        <box size="0.037                                 0.025                                 0.11"/>
      </geometry>
    </collision>
  </link>
  <joint name="depth_camera_mount_to_kabaong" type="fixed">
    <origin rpy="             0.0              0.0             0.0" xyz="             0.07650000000000001             0.0475             0.025"/>
    <parent link="kabaong"/>
    <child link="depth_camera_mount"/>
  </joint>
  <link name="mirror_camera_mount">
    <inertial>
      <origin rpy="0.0 0.0 0.0" xyz="0.0 0.0 0.031"/>
      <mass value="0.0"/>
      <inertia ixx="0.0" ixy="0.0" ixz="0.0" iyy="0.0" iyz="0.0" izz="0.0"/>
    </inertial>
    <visual>
      <origin rpy="0.0 0.0 0.0" xyz="0.0 0.0 0.031"/>
      <geometry>
        <box size="0.037                                 0.025                                 0.062"/>
      </geometry>
      <material name="wood"/>
    </visual>
    <collision>
      <origin rpy="0.0 0.0 0.0" xyz="0.0 0.0 0.031"/>
      <geometry>
        <box size="0.037                                 0.025                                 0.062"/>
      </geometry>
    </collision>
  </link>
  <joint name="mirror_camera_mount_to_kabaong" type="fixed">
    <origin rpy="             0.0              0.0             1.5707963267948966" xyz="             0.07650000000000001             0.012499999999999997             0.025"/>
    <parent link="kabaong"/>
    <child link="mirror_camera_mount"/>
  </joint>
  <link name="mirror_camera">
    <visual>
      <origin rpy="0.0 0.0 0.0" xyz="-0.0125 -0.0145 0.0"/>
      <geometry>
        <mesh filename="package://strawberry_picking_rpi_description/meshes/Pi Camera Module v3.STL" scale="0.001 0.001 0.001"/>
      </geometry>
      <material name="black_plastic"/>
    </visual>
  </link>
  <joint name="mirror_camera_to_mirror_camera_mount" type="fixed">
    <origin rpy="             1.5707963267948966             3.141592653589793             0.0" xyz="             0.0             -0.0125             0.041999999999999996"/>
    <parent link="mirror_camera_mount"/>
    <child link="mirror_camera"/>
  </joint>
  <link name="depth_camera">
    <visual>
      <origin rpy="0.0 0.0 0.0" xyz="-0.0125 -0.0145 0.0"/>
      <geometry>
        <mesh filename="package://strawberry_picking_rpi_description/meshes/Pi Camera Module v3.STL" scale="0.001 0.001 0.001"/>
      </geometry>
      <material name="black_plastic"/>
    </visual>
  </link>
  <joint name="depth_camera_to_depth_camera_mount" type="fixed">
    <origin rpy="             1.5707963267948966             3.141592653589793             0.0" xyz="             0.0             -0.0125             0.09"/>
    <parent link="depth_camera_mount"/>
    <child link="depth_camera"/>
  </joint>
</robot>
